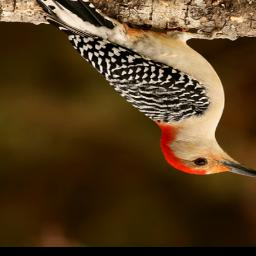Woodpecker: (3, 0, 256, 179)
